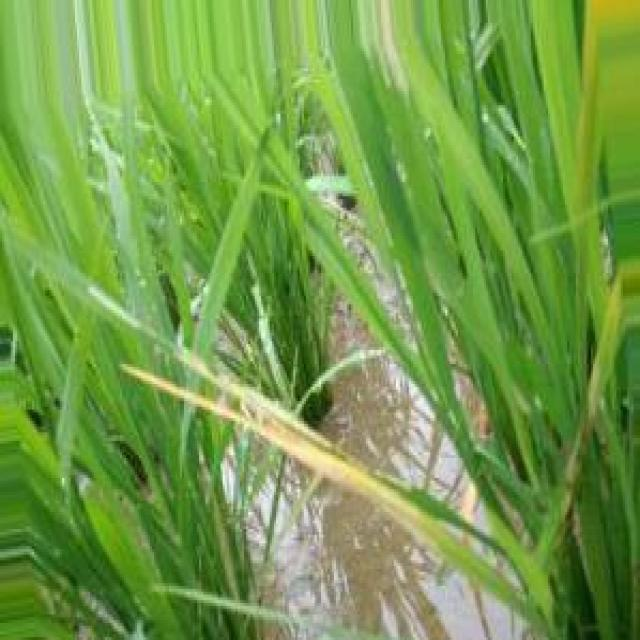Rice Tungro: (121, 350, 510, 604)
